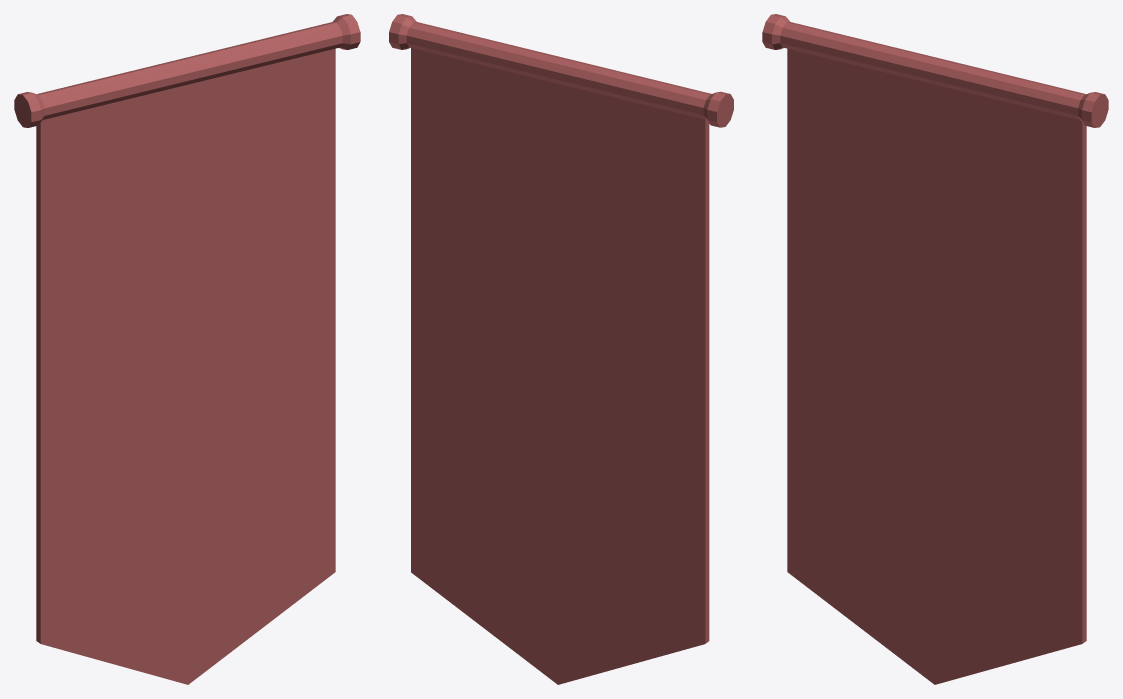
File: Flag_2.fbx
3 renders of one model, left to right at view 1: azimuth 30°, elevation 25°; view 2: azimuth 150°, elevation 25°; view 3: azimuth 330°, elevation 25°, orthographic.
Parts seen in each view (by area): view 1: Flag_2; view 2: Flag_2; view 3: Flag_2.
Boxes of the visible parts, left/top/right/bottom form: Flag_2: left=14, top=14, right=360, bottom=684; Flag_2: left=389, top=14, right=733, bottom=684; Flag_2: left=762, top=14, right=1108, bottom=684.
Size of the model in its own units: 27.37 by 50.05 by 2.44.
